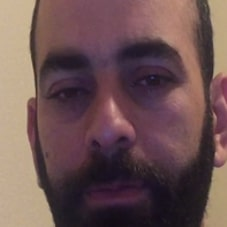drowsy: (35, 36, 196, 226)
